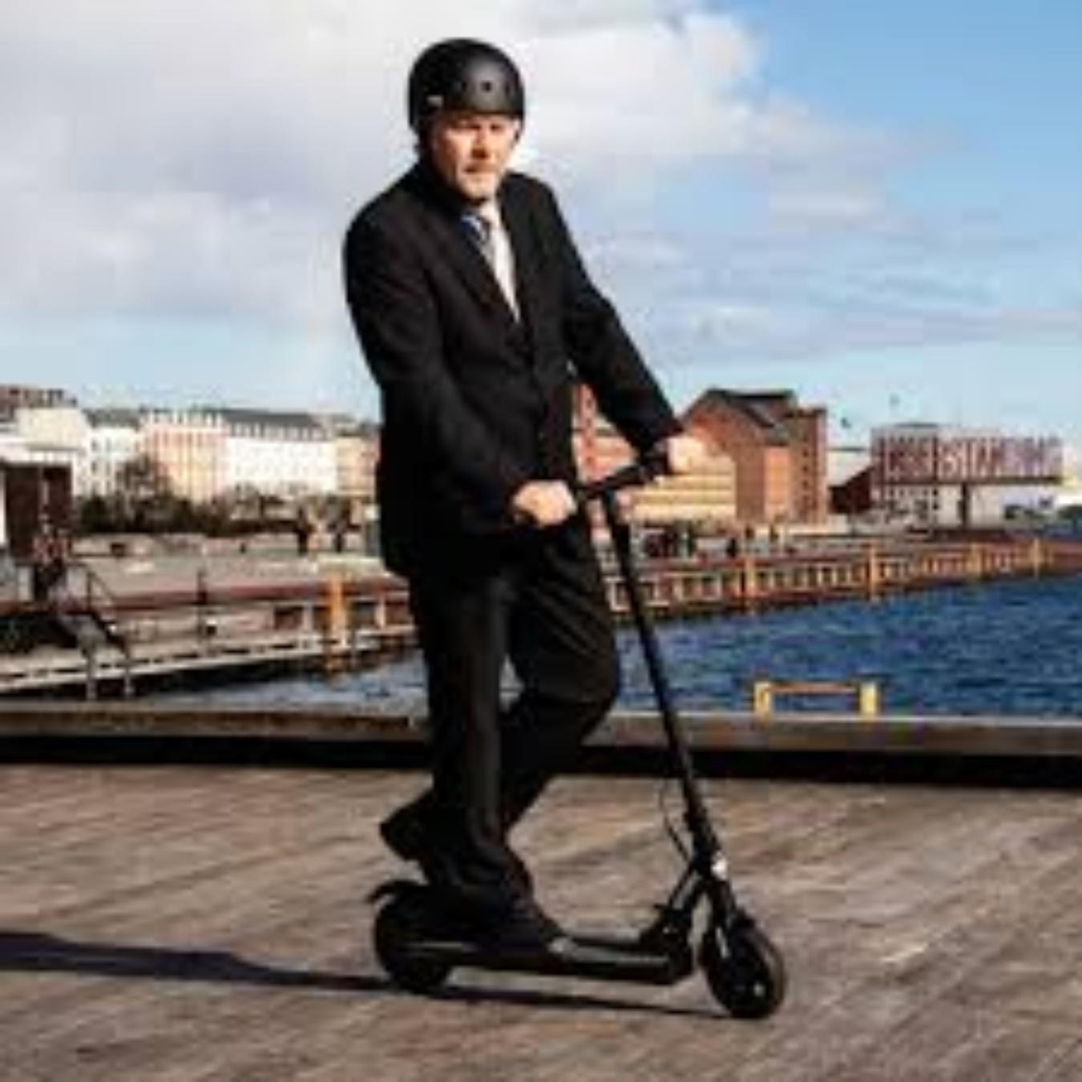helmet: (402, 42, 536, 200)
human: (358, 37, 692, 926)
kickboard: (359, 910, 796, 1020)
